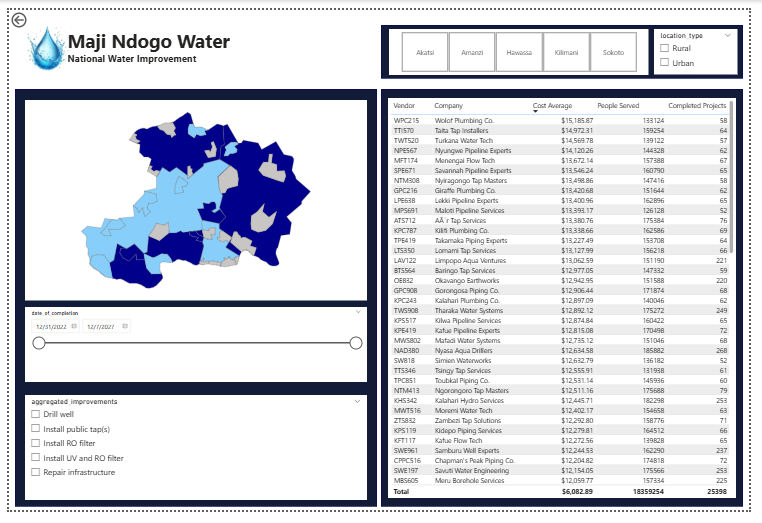

The page's visual inventory and layout, read from the dashboard file:
{"tool":"powerbi","page":{"name":"Vendors","canvas":[1480,1000],"ordinal":3},"visuals":[{"type":"shape","box":[744.4,29.6,724.1,107.4],"z":0},{"type":"shape","box":[744.4,157.4,724.1,835.2],"z":1000},{"type":"shape","box":[11.1,157.4,724.1,835.2],"z":2000},{"type":"image","box":[9.3,13,131.5,129.6],"z":3000},{"type":"textbox","box":[111.1,29.6,351.9,107.4],"z":4000},{"type":"shapeMap","fields":{"Series":["project_progress.date_of_completion"],"Value":["project_progress.pct_project_complete"],"Category":["project_progress.town"]},"box":[31.3,179.8,683.8,401],"z":5000},{"type":"slicer","fields":{"Values":["location.province_name"]},"box":[759.6,37.4,519.2,91.9],"z":6000},{"type":"actionButton","box":[0,0,100,40],"z":7000},{"type":"slicer","fields":{"Values":["location.location_type"]},"box":[1289.9,38.4,166.7,90.9],"z":8000},{"type":"slicer","fields":{"Values":["project_progress.date_of_completion"]},"box":[31.1,594.3,683.7,149.6],"z":9000},{"type":"slicer","fields":{"Values":["project_progress.aggregated_improvements"]},"box":[31,769.1,683.7,209.8],"z":10000},{"type":"tableEx","fields":{"Values":["vendors.vendor_ID","vendors.company_name","Avg(project_progress.cost)","project_progress.population_now_basic_access","project_progress.New_Number_Completed_Projects"]},"box":[758,176,696,800],"z":11000}]}

Visuals, with their boxes in screenshot pixels (x1, y1, x2, y2), scaled from the page's 1480x1000 canvas onto the 762x523 screenshot:
shape: Rect(383, 15, 756, 72)
shape: Rect(383, 82, 756, 519)
shape: Rect(6, 82, 379, 519)
image: Rect(5, 7, 72, 75)
textbox: Rect(57, 15, 238, 72)
shapeMap - project_progress.date_of_completion x project_progress.pct_project_complete: Rect(16, 94, 368, 304)
slicer - location.province_name: Rect(391, 20, 658, 68)
actionButton: Rect(0, 0, 51, 21)
slicer - location.location_type: Rect(664, 20, 750, 68)
slicer - project_progress.date_of_completion: Rect(16, 311, 368, 389)
slicer - project_progress.aggregated_improvements: Rect(16, 402, 368, 512)
tableEx - vendors.vendor_ID x vendors.company_name: Rect(390, 92, 749, 510)
